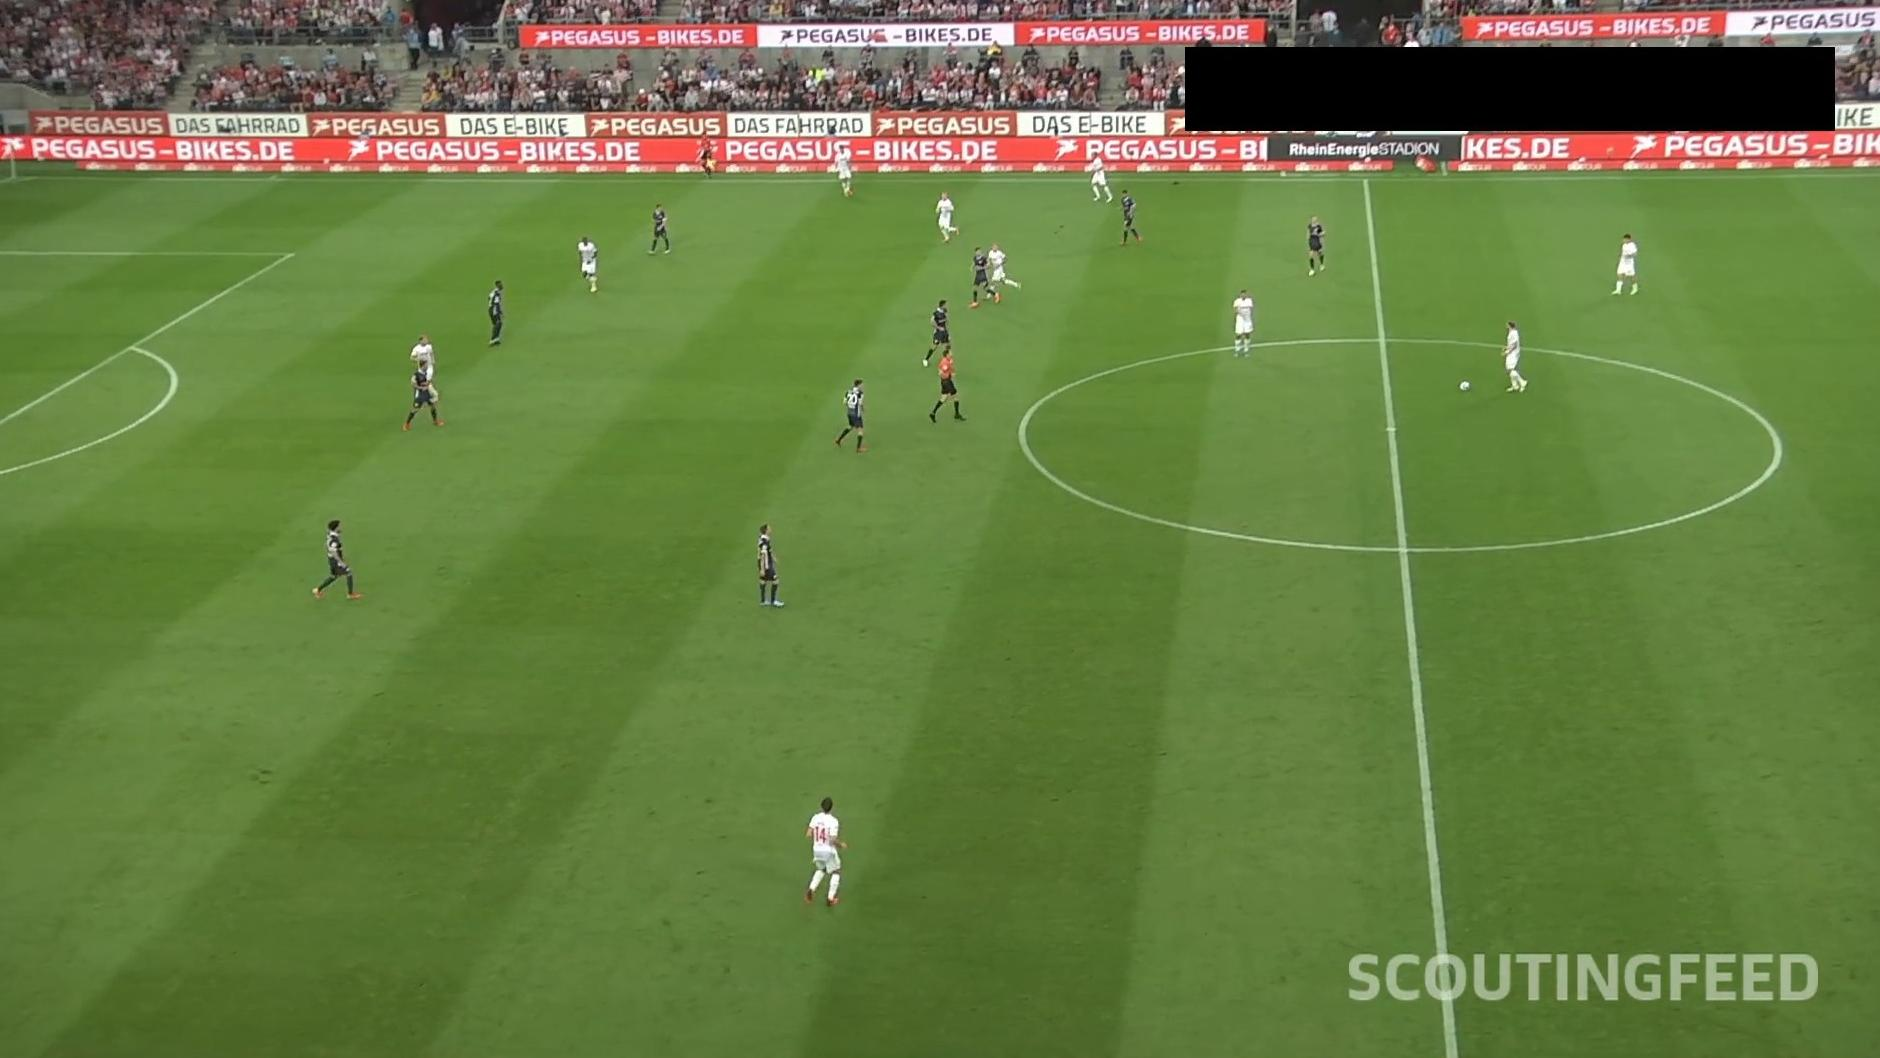ball: (1458, 380, 1472, 393)
